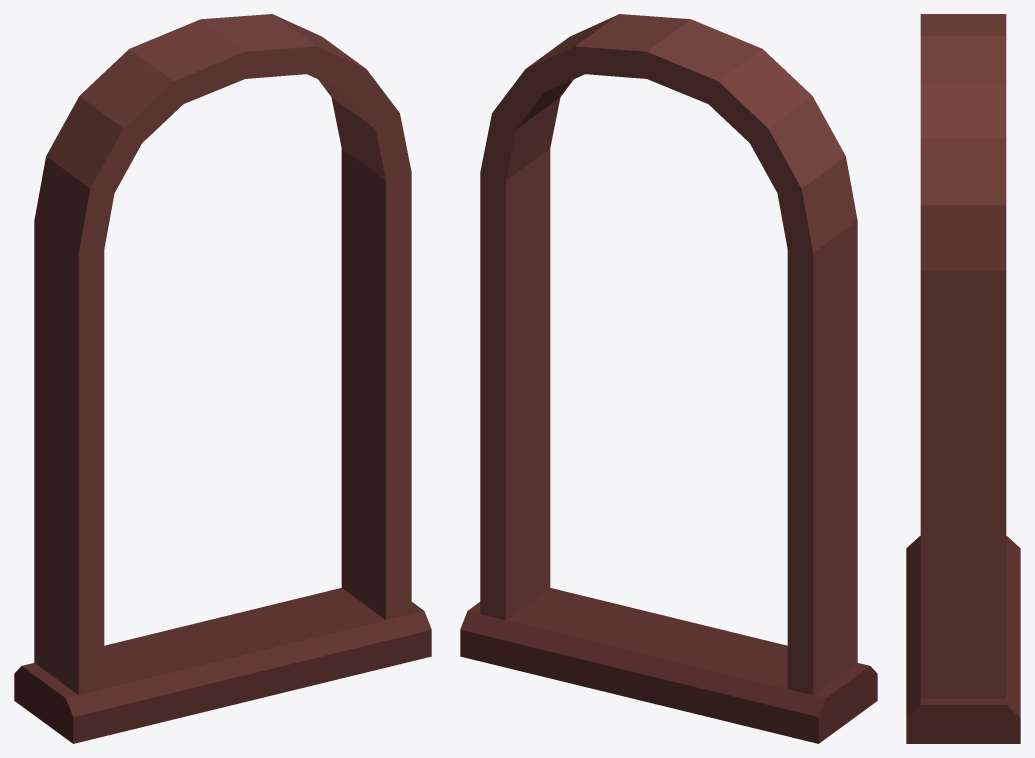
The model's file is Doorway.fbx.
3 views of the same model, side by side, from view 1: azimuth 30°, elevation 25°; view 2: azimuth 150°, elevation 25°; view 3: azimuth 270°, elevation 25° (orthographic). The views are drawn at different scales.
Parts seen in each view (by area): view 1: Doorway; view 2: Doorway; view 3: Doorway.
Boxes of the visible parts, x1,y1,x2,y2 form: Doorway: (14, 14, 431, 743); Doorway: (460, 14, 877, 743); Doorway: (906, 14, 1020, 743).
Size of the model in its own units: 1.4 by 0.4 by 2.4.
